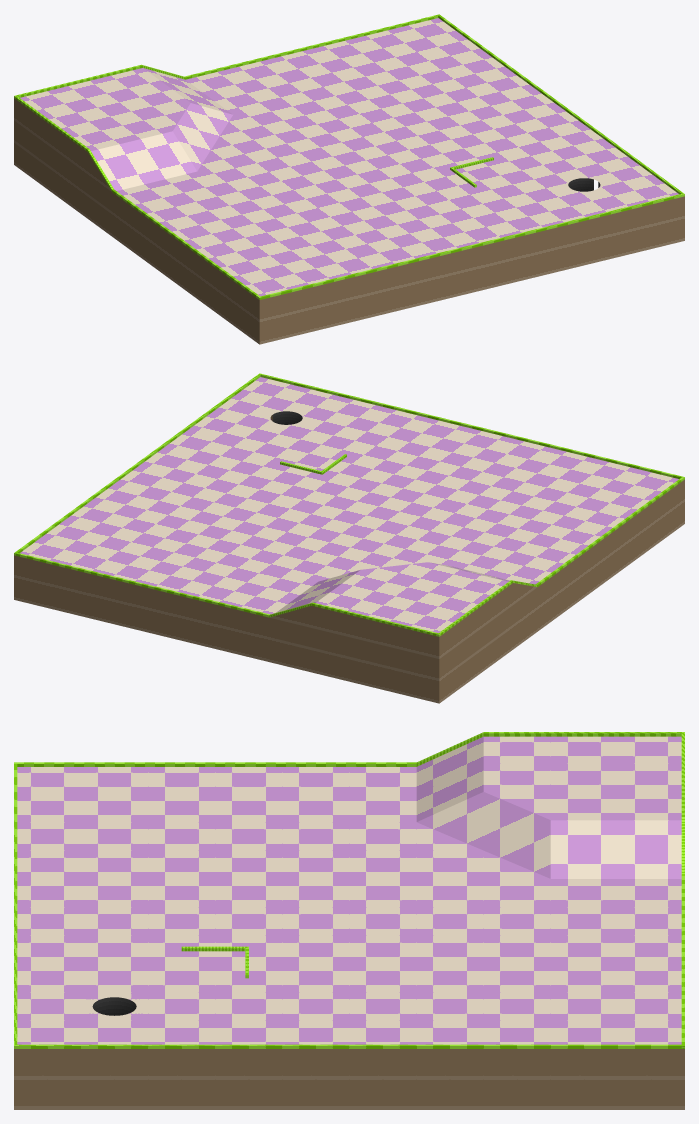
The model's file is Test_level.gltf.
The picture shows the model from 3 angles, top to bottom: view 1: azimuth 30°, elevation 25°; view 2: azimuth 150°, elevation 25°; view 3: azimuth 270°, elevation 25°; orthographic projection. The views are drawn at different scales.
Visible parts, largest first — view 1: Hole -col.001, Wall__TR.003; view 2: Hole -col.001, Wall__TR.003; view 3: Hole -col.001, Wall__TR.003.
Part boxes in pixels (bbox=[...]): Hole -col.001: bbox=[14, 18, 684, 344]; Wall__TR.003: bbox=[14, 14, 684, 299]; Hole -col.001: bbox=[14, 377, 684, 703]; Wall__TR.003: bbox=[14, 373, 684, 636]; Hole -col.001: bbox=[14, 736, 684, 1109]; Wall__TR.003: bbox=[14, 732, 684, 1048].
Size of what is drawn, in the model's own units: 20 by 3.1 by 20.
Materials: 1 (1 with a texture image).
